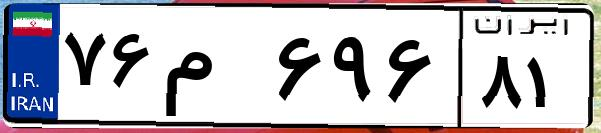1: (525, 38, 570, 115)
6: (270, 28, 330, 110), (385, 28, 445, 110), (110, 28, 158, 98)
7: (57, 26, 110, 100)
8: (475, 38, 525, 113)
9: (330, 28, 385, 110)
م: (158, 20, 270, 120)
